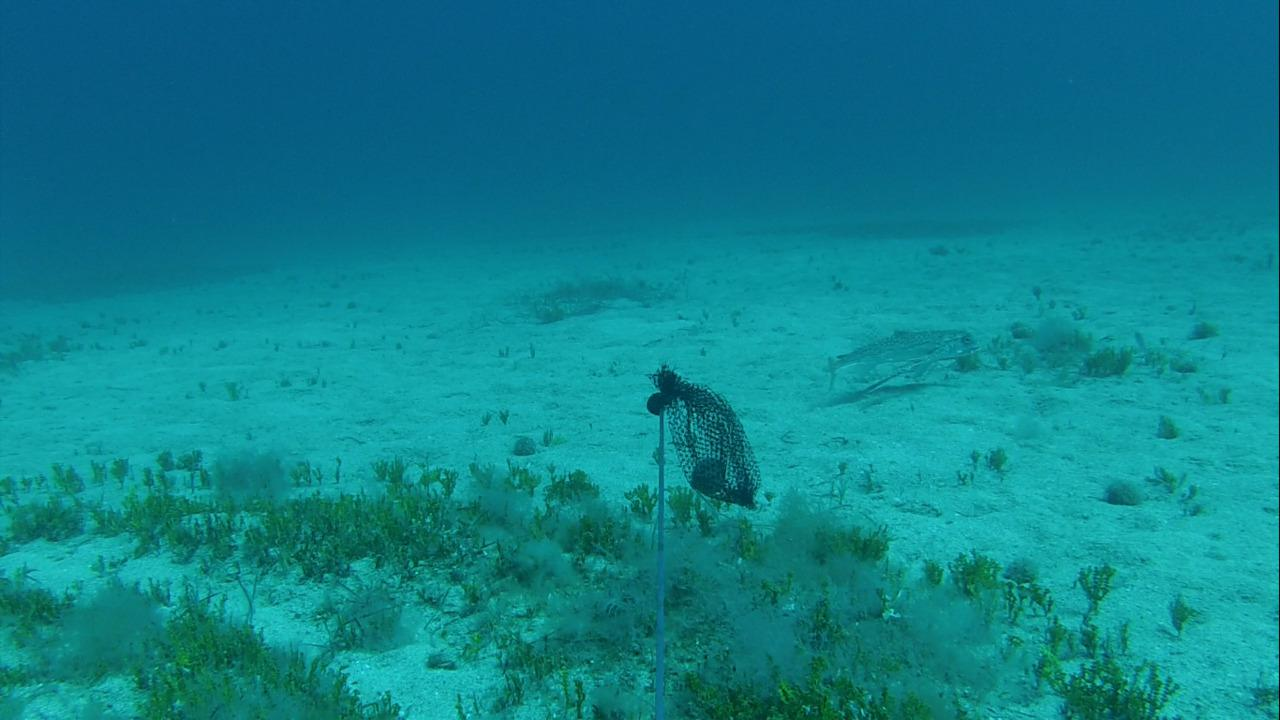dactylopterus: (818, 321, 977, 397)
